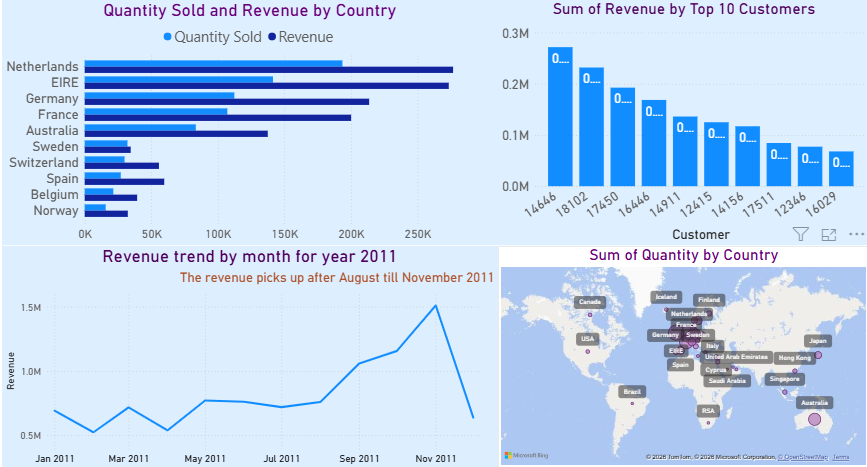

The page's visual inventory and layout, read from the dashboard file:
{"tool":"powerbi","page":{"name":"Page 1","canvas":[1280,720],"ordinal":4},"visuals":[{"type":"lineChart","title":" Revenue trend by month for year 2011","fields":{"Category":["Online Retail.InvoiceDate.Variation.Date Hierarchy.Year","Online Retail.InvoiceDate.Variation.Date Hierarchy.Month"],"Y":["Sum(Online Retail.Revenue)"]},"box":[10.1,394.8,725.7,325.9],"z":0},{"type":"map","fields":{"Category":["Online Retail.Country"],"Size":["Sum(Online Retail.Quantity)"]},"box":[735.7,394.8,544.3,325.9],"z":1},{"type":"clusteredBarChart","fields":{"Category":["Online Retail.Country"],"Y":["Sum(Online Retail.Quantity)","Sum(Online Retail.Revenue)"]},"box":[10.1,35.3,725.7,359.5],"z":2},{"type":"columnChart","title":"Sum of Revenue by Top 10 Customers","fields":{"Y":["Sum(Online Retail.Revenue)"],"Category":["Online Retail.CustomerID"]},"box":[735.7,35.3,544.3,359.5],"z":3}]}

Visuals, with their boxes on the page's 1280x720 design canvas (x1, y1, x2, y2). These are canvas units, not pixel positions in the 867x467 screenshot, which may show the page scaled, cropped or inside an application window:
" Revenue trend by month for year 2011" lineChart: detection(10, 395, 736, 721)
map - Online Retail.Country x Sum(Online Retail.Quantity): detection(736, 395, 1280, 721)
clusteredBarChart - Online Retail.Country x Sum(Online Retail.Quantity): detection(10, 35, 736, 395)
"Sum of Revenue by Top 10 Customers" columnChart: detection(736, 35, 1280, 395)
